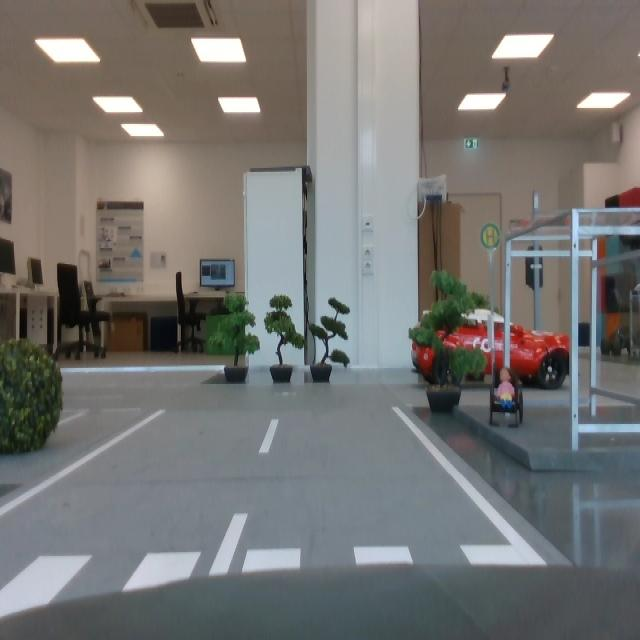car: (411, 308, 571, 390), (602, 329, 640, 358)
person: (495, 368, 517, 409)
potted plant: (409, 270, 493, 412), (1, 337, 64, 454), (206, 292, 261, 384), (308, 297, 351, 382), (264, 293, 305, 382)
traffic light: (526, 247, 545, 291)
